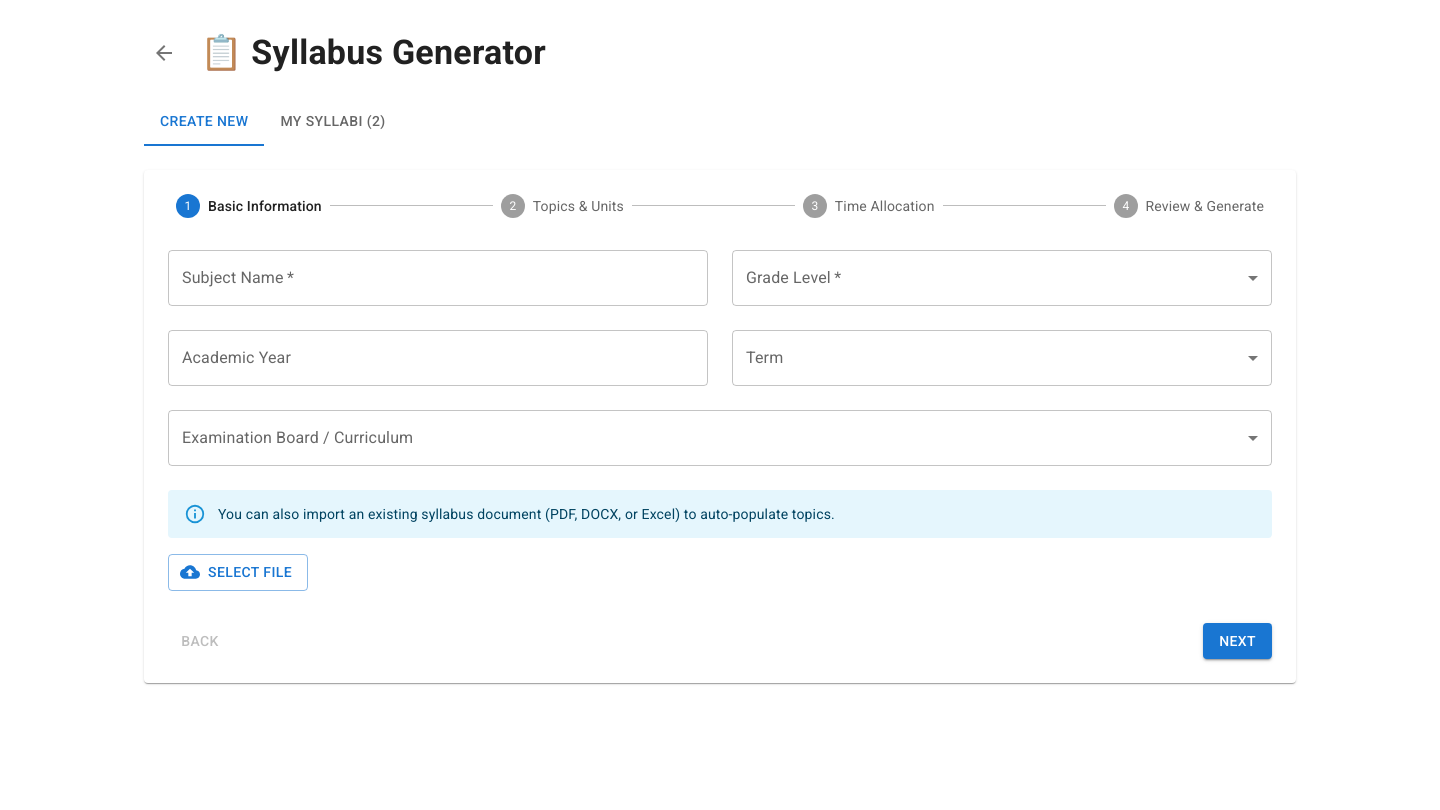
Test: SyllabusGenerator Component › allows adding a new topic
This screenshot has width=1440, height=810.
Navigate to step 2
Click the button "Next": click(1238, 641) [1203, 622, 1272, 659]
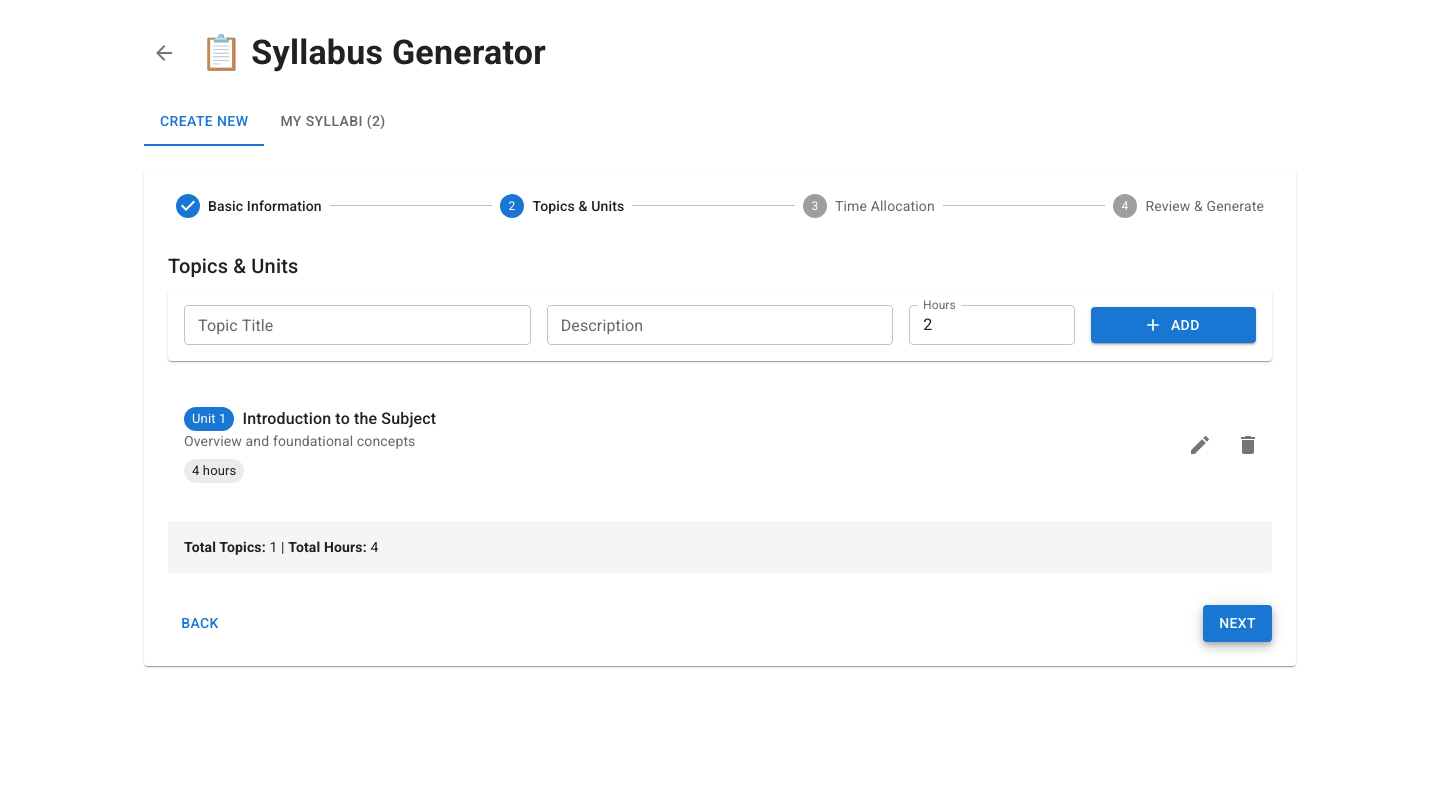
Now the field labelled "Topic Title" is shown
In the field labelled "Topic Title": (357, 325) [184, 305, 531, 345], type "New Topic"
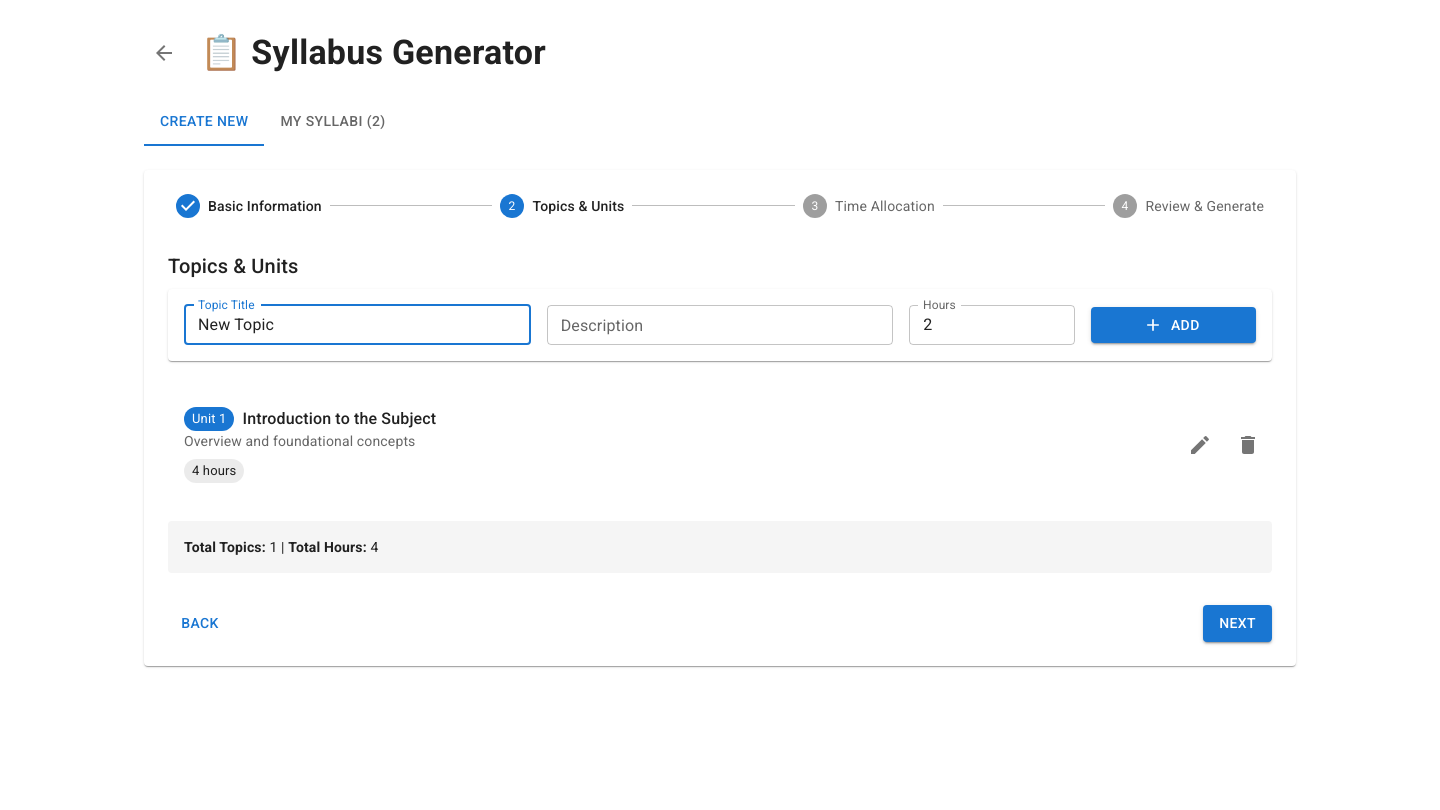
Click the button "Add": click(1173, 325) [1091, 307, 1256, 343]
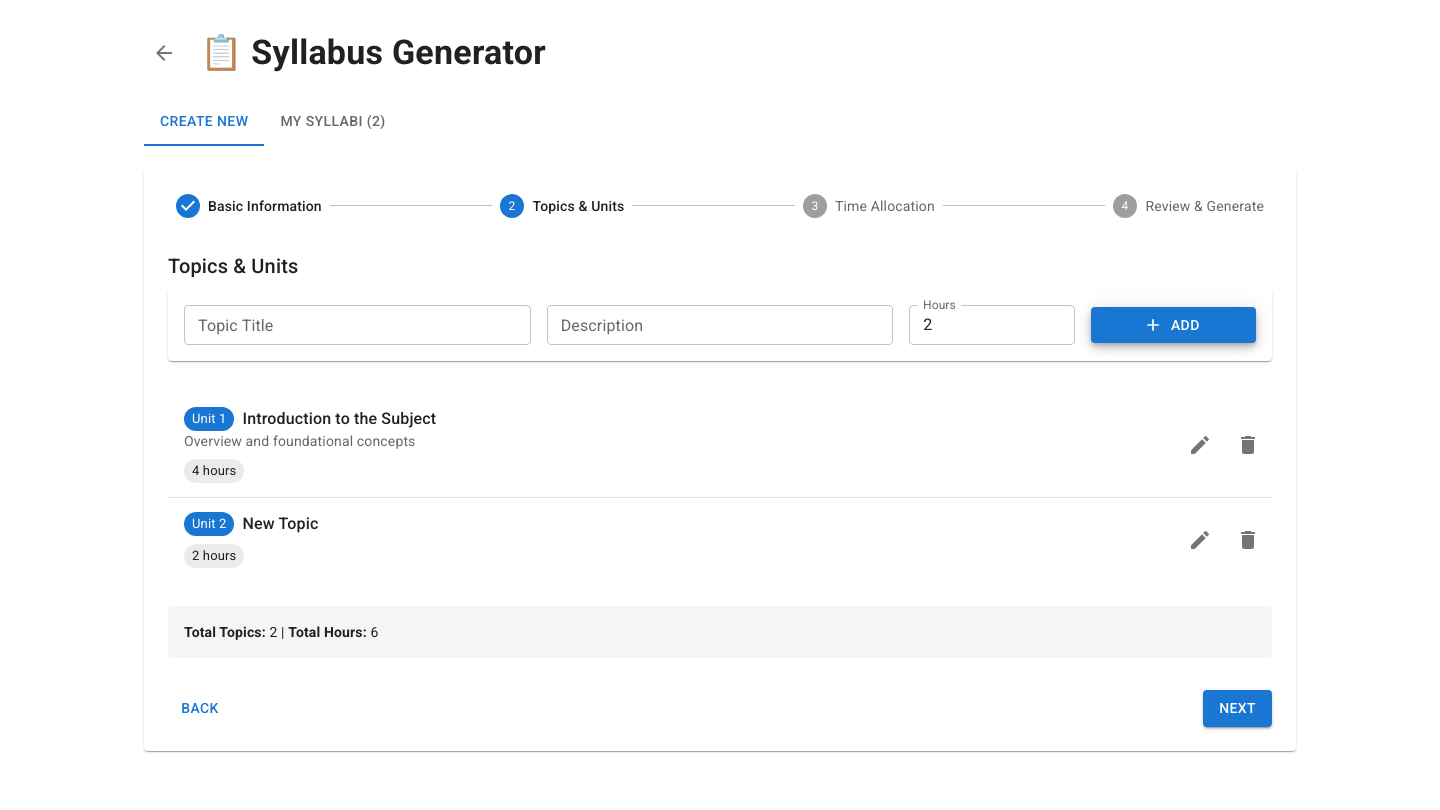
Now the text "New Topic" is shown, box [242, 512, 318, 536]
